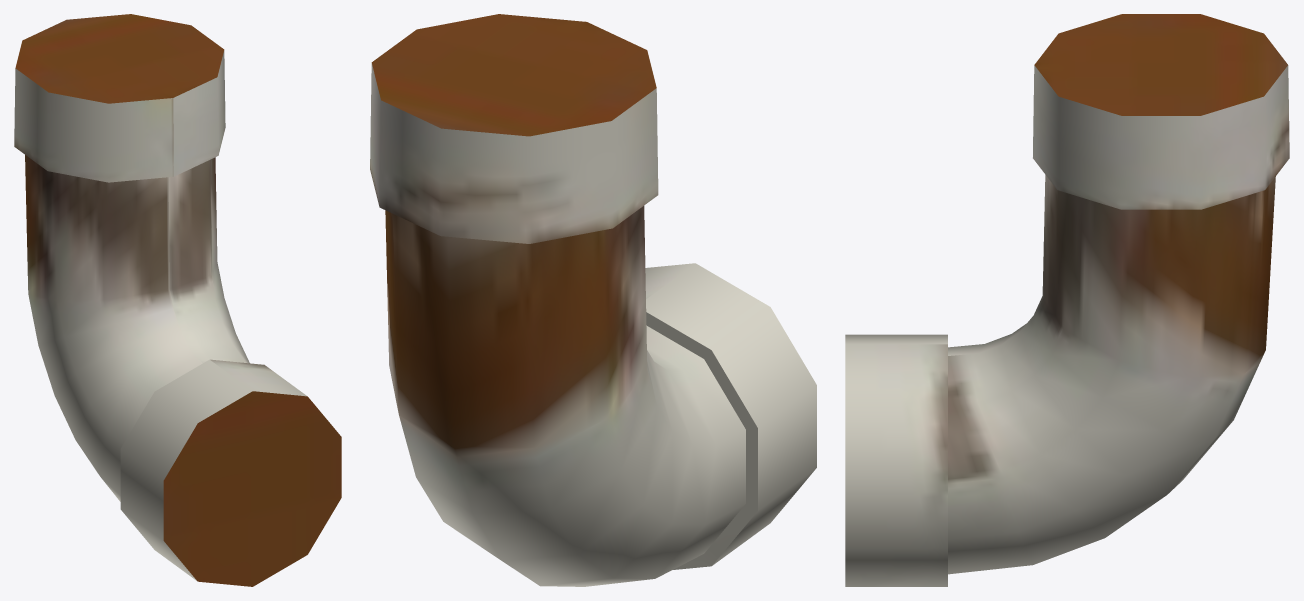
The picture shows the model from 3 angles, left to right: view 1: azimuth 30°, elevation 25°; view 2: azimuth 150°, elevation 25°; view 3: azimuth 270°, elevation 25°; orthographic projection. The views are drawn at different scales.
Visible parts, largest first — view 1: body0_model0_lod0_mesh0; view 2: body0_model0_lod0_mesh0; view 3: body0_model0_lod0_mesh0.
Boxes of the visible parts, x1,y1,x2,y2 form: body0_model0_lod0_mesh0: [14, 14, 341, 586]; body0_model0_lod0_mesh0: [370, 14, 816, 586]; body0_model0_lod0_mesh0: [845, 14, 1289, 586].
Size of the model in its own units: 9.51 by 22 by 17.3.
Materials: 1 (1 with a texture image).
